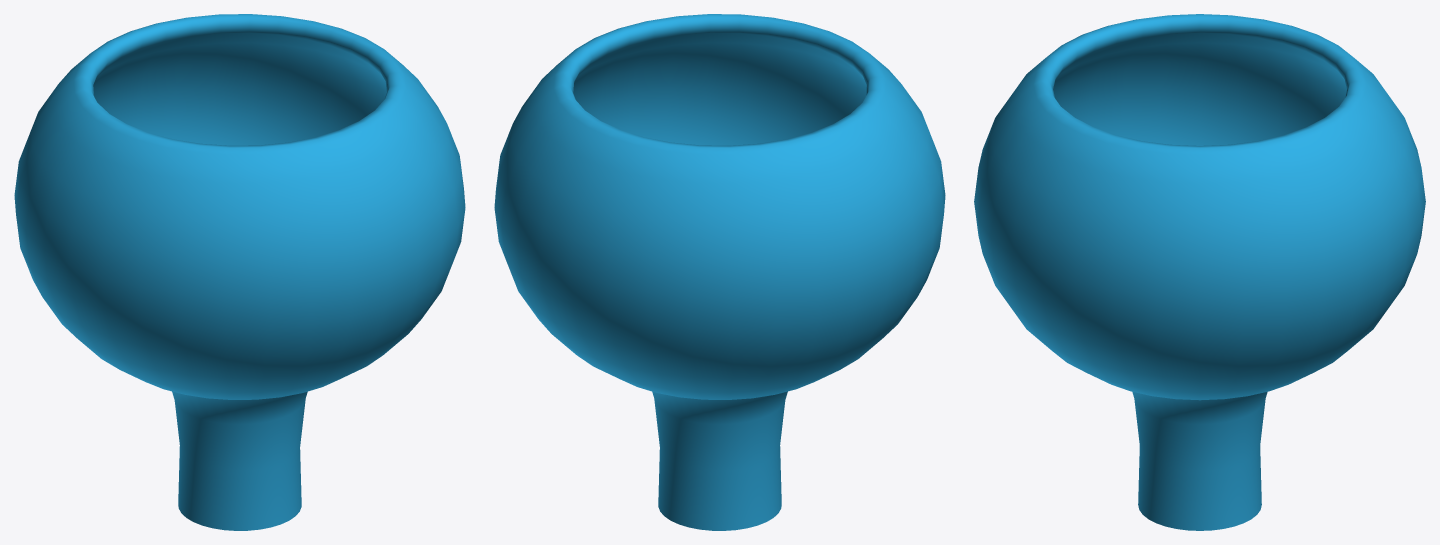
Rendered from Huni.fbx.
3 renders of one model, left to right at view 1: azimuth 30°, elevation 25°; view 2: azimuth 150°, elevation 25°; view 3: azimuth 270°, elevation 25°, orthographic.
Parts seen in each view (by area): view 1: Sphere.003; view 2: Sphere.003; view 3: Sphere.003.
Part boxes in pixels (<box>): Sphere.003: <box>14,14,465,530</box>; Sphere.003: <box>494,14,945,530</box>; Sphere.003: <box>974,14,1425,530</box>.
Bounding box in the file's own units: 147 × 152 × 147.
Materials: 1 (1 with a texture image).
